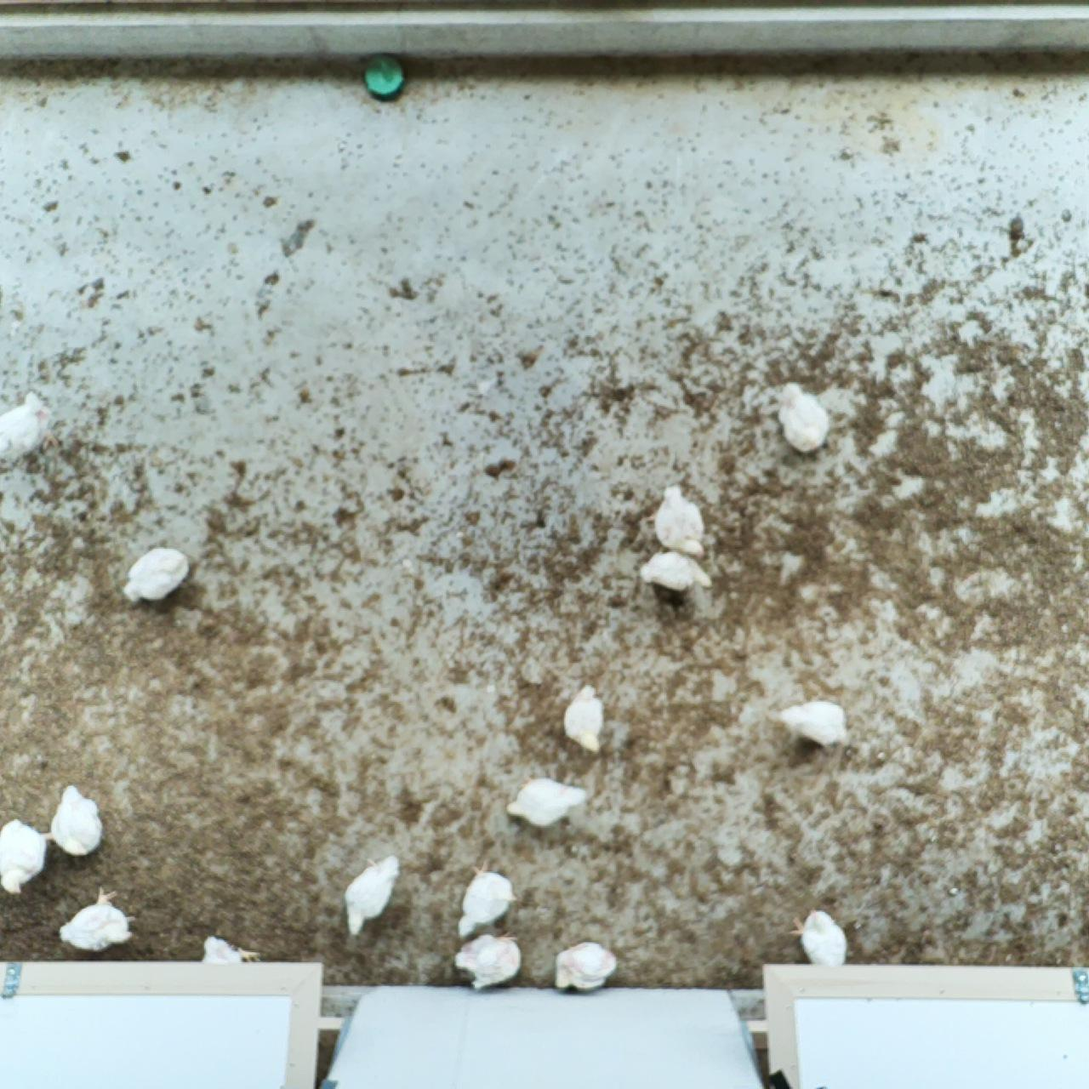chicken: (57, 882, 138, 954), (342, 850, 404, 942), (452, 857, 519, 941), (502, 771, 589, 831), (122, 543, 197, 609), (651, 480, 711, 562), (0, 387, 62, 466), (448, 931, 528, 991), (0, 816, 59, 897), (773, 378, 832, 454), (48, 782, 106, 858), (781, 906, 850, 969), (774, 698, 854, 750), (639, 546, 720, 596), (552, 939, 621, 996), (559, 681, 610, 757), (198, 932, 264, 963)
